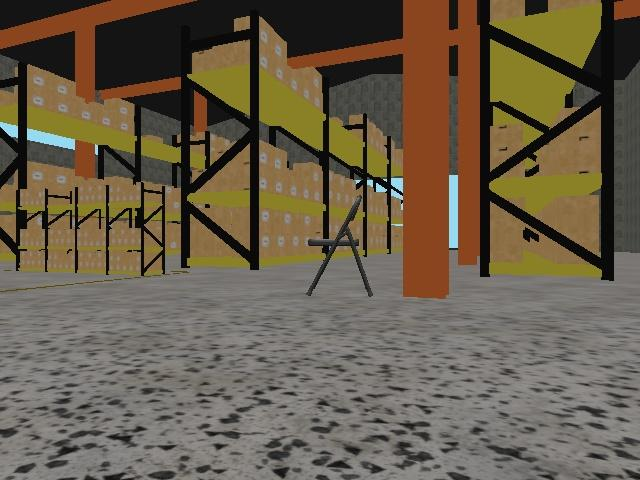chair: (304, 193, 375, 300)
